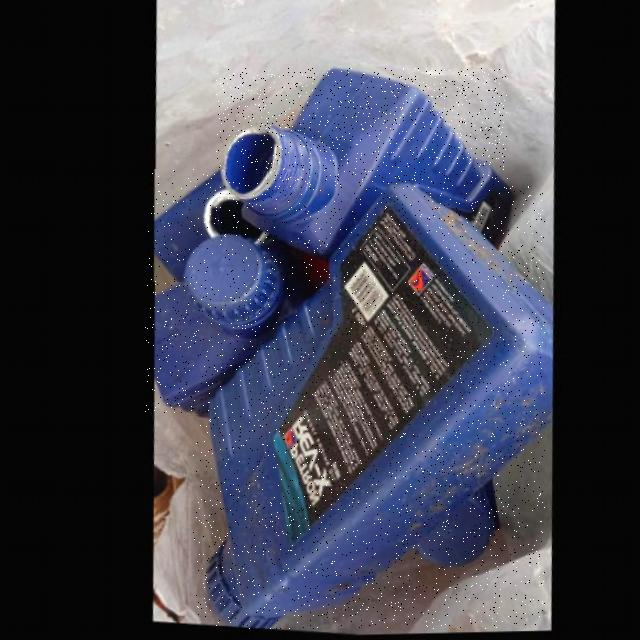plastic: (193, 184, 545, 629), (217, 68, 508, 261), (145, 234, 287, 415), (148, 170, 268, 282)
